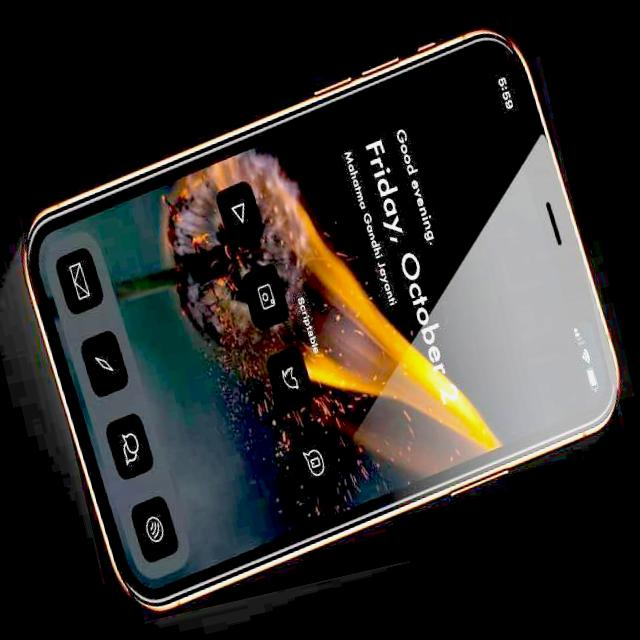phone: (0, 5, 640, 627)
